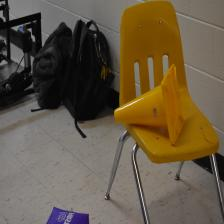cone: (114, 63, 185, 144)
cube: (46, 205, 90, 224)
